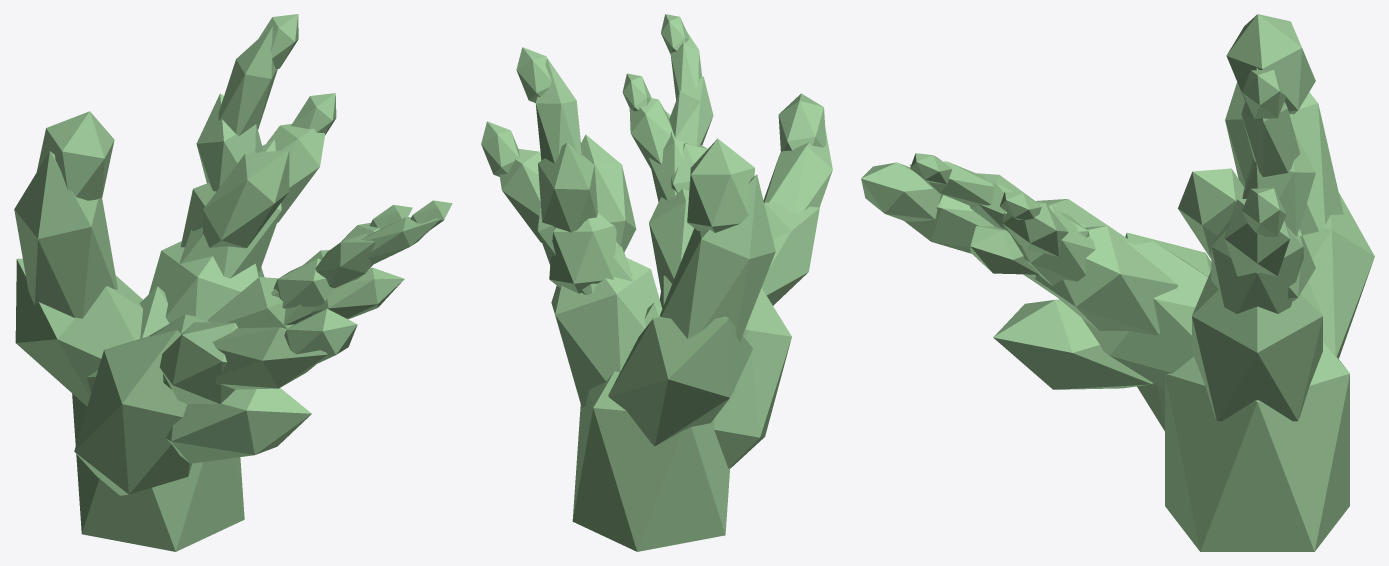
File: Coral_03.fbx
3 renders of one model, left to right at view 1: azimuth 30°, elevation 25°; view 2: azimuth 150°, elevation 25°; view 3: azimuth 270°, elevation 25°, orthographic. The views are drawn at different scales.
Parts seen in each view (by area): view 1: Coral_03; view 2: Coral_03; view 3: Coral_03.
Boxes of the visible parts, x1,y1,x2,y2 form: Coral_03: (14, 14, 452, 551); Coral_03: (481, 14, 832, 551); Coral_03: (861, 14, 1374, 551).
Bounding box in the file's own units: 126 × 186 × 166.
